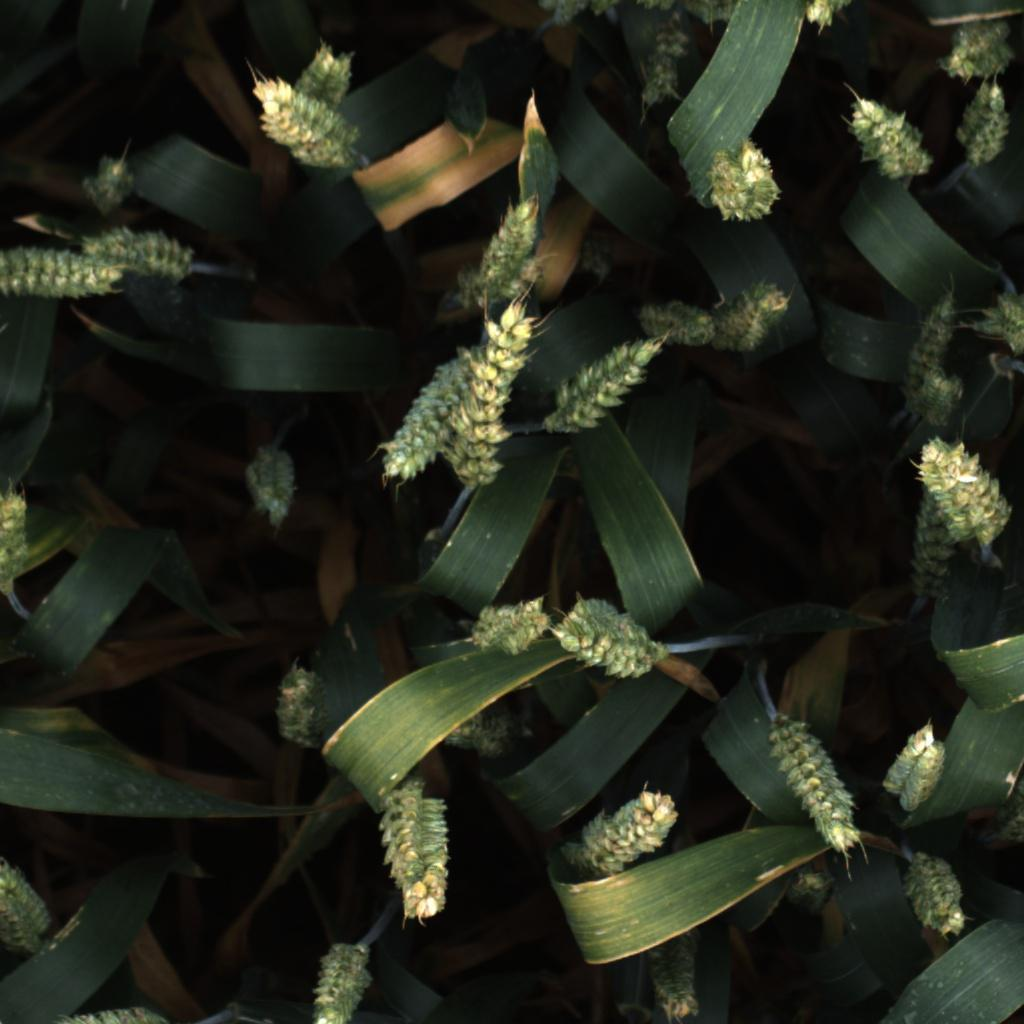0-0: (242, 68, 373, 193), (454, 308, 540, 493), (362, 770, 463, 927), (766, 707, 870, 858), (557, 338, 672, 440), (569, 784, 685, 884), (551, 595, 669, 684), (914, 432, 1008, 542), (371, 362, 454, 486), (463, 192, 549, 301), (0, 242, 124, 312), (835, 97, 935, 183), (872, 720, 960, 811), (83, 220, 207, 284), (696, 143, 782, 234), (263, 660, 342, 756), (895, 490, 957, 607), (932, 8, 1024, 86), (899, 848, 976, 940), (901, 284, 965, 394), (711, 278, 796, 359), (895, 367, 981, 441), (952, 79, 1018, 174), (301, 943, 377, 1024), (241, 440, 305, 535), (464, 596, 552, 662), (642, 932, 703, 1024), (0, 850, 55, 950), (292, 25, 365, 100), (638, 290, 717, 354), (638, 28, 695, 116), (444, 705, 525, 763), (0, 476, 38, 594), (971, 285, 1024, 365), (82, 147, 143, 214), (55, 996, 181, 1024), (780, 861, 843, 915), (978, 772, 1024, 845), (570, 233, 622, 287), (795, 1, 858, 30)
